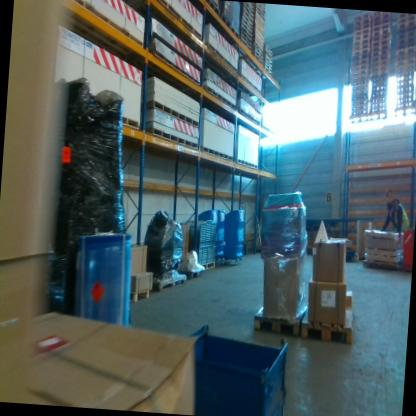pallet: (300, 303, 355, 348), (252, 301, 307, 338), (151, 273, 188, 297), (362, 260, 398, 271), (372, 19, 391, 35), (184, 269, 203, 284), (397, 43, 416, 58), (396, 55, 416, 69), (372, 30, 391, 44), (372, 15, 391, 29), (397, 38, 416, 52), (397, 33, 416, 47), (396, 61, 416, 74), (396, 49, 416, 62), (206, 0, 221, 17), (219, 12, 233, 30), (398, 27, 416, 41), (371, 51, 390, 64), (372, 25, 391, 38), (397, 17, 416, 30), (353, 25, 371, 38), (354, 20, 372, 33), (354, 15, 372, 28), (370, 57, 389, 69), (371, 47, 390, 59), (371, 42, 390, 54), (371, 37, 390, 49), (373, 11, 392, 23), (352, 51, 370, 63), (352, 46, 370, 58), (352, 41, 370, 53), (353, 31, 371, 43), (354, 10, 372, 22), (398, 23, 416, 35), (398, 13, 416, 25), (350, 72, 369, 83), (370, 67, 389, 78), (370, 63, 389, 74), (200, 260, 216, 273), (352, 82, 369, 94), (350, 77, 368, 88), (351, 67, 369, 78), (351, 61, 369, 72), (351, 56, 369, 67), (353, 36, 371, 47), (351, 101, 368, 112), (352, 92, 368, 103), (352, 87, 368, 98), (352, 97, 368, 107), (351, 108, 368, 117), (373, 11, 390, 19), (230, 27, 240, 40), (398, 13, 414, 20)
pallet_truck: (398, 222, 415, 274)
